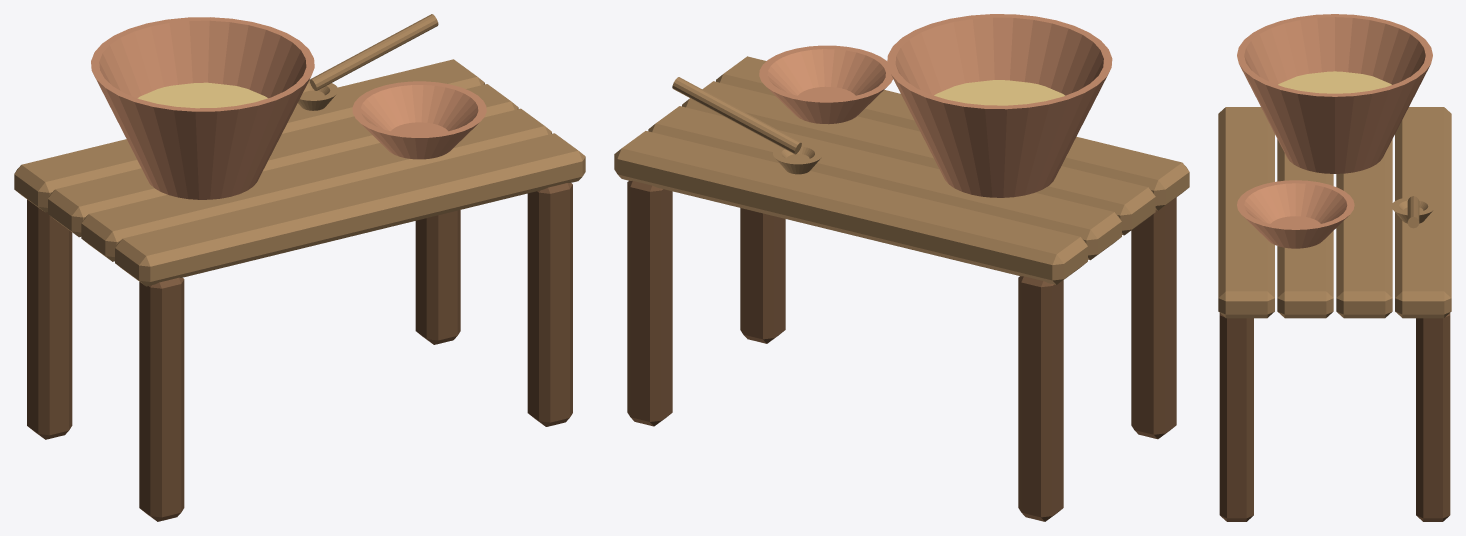
3 views of the same model, side by side, from view 1: azimuth 30°, elevation 25°; view 2: azimuth 150°, elevation 25°; view 3: azimuth 270°, elevation 25° (orthographic). The views are drawn at different scales.
Visible parts, largest first — view 1: BA-0050 batched; view 2: BA-0050 batched; view 3: BA-0050 batched.
Boxes of the visible parts, x1=… form: BA-0050 batched: x1=14, y1=14, x2=585, y2=521; BA-0050 batched: x1=614, y1=14, x2=1189, y2=521; BA-0050 batched: x1=1218, y1=14, x2=1451, y2=521.
Size of the model in its own units: 0.92 by 0.76 by 0.475.
